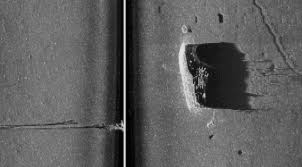ship: (178, 41, 211, 112)
